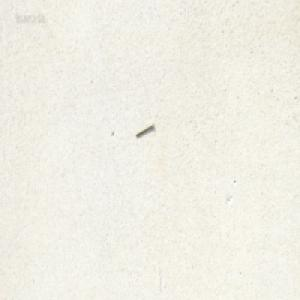Bolt: (134, 122, 154, 138)
